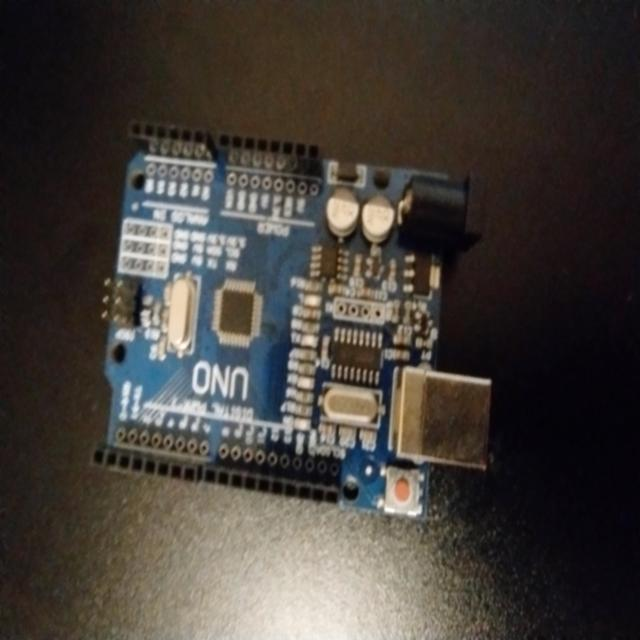arduino: (96, 117, 499, 537)
